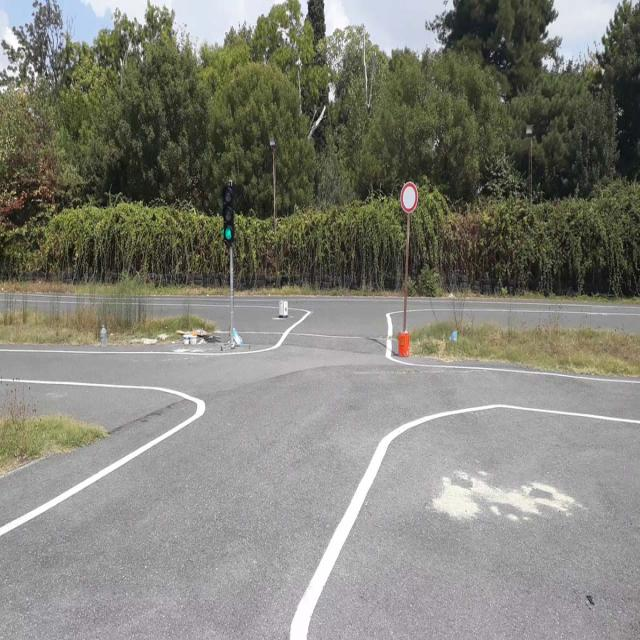yesil: (223, 187, 233, 241)
